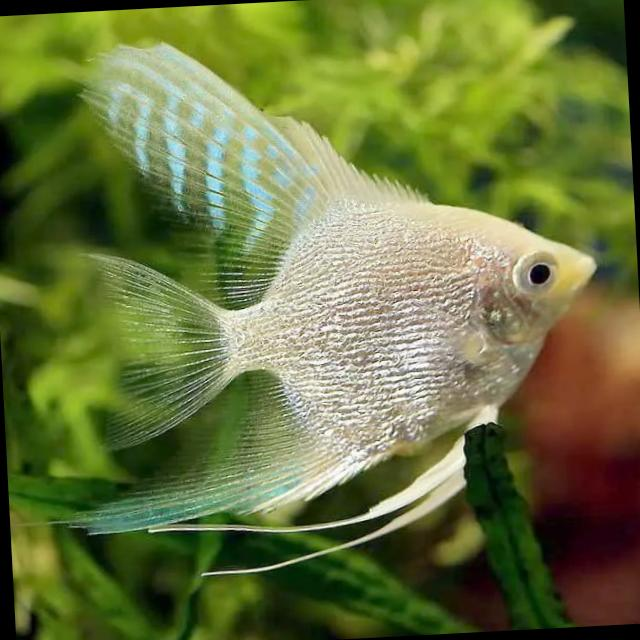AngelFish: (83, 12, 612, 582)
